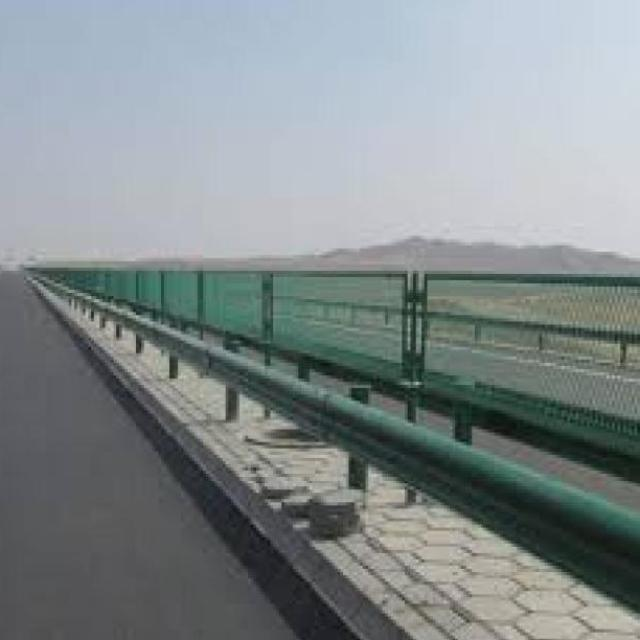Guard rail: (41, 278, 640, 610)
